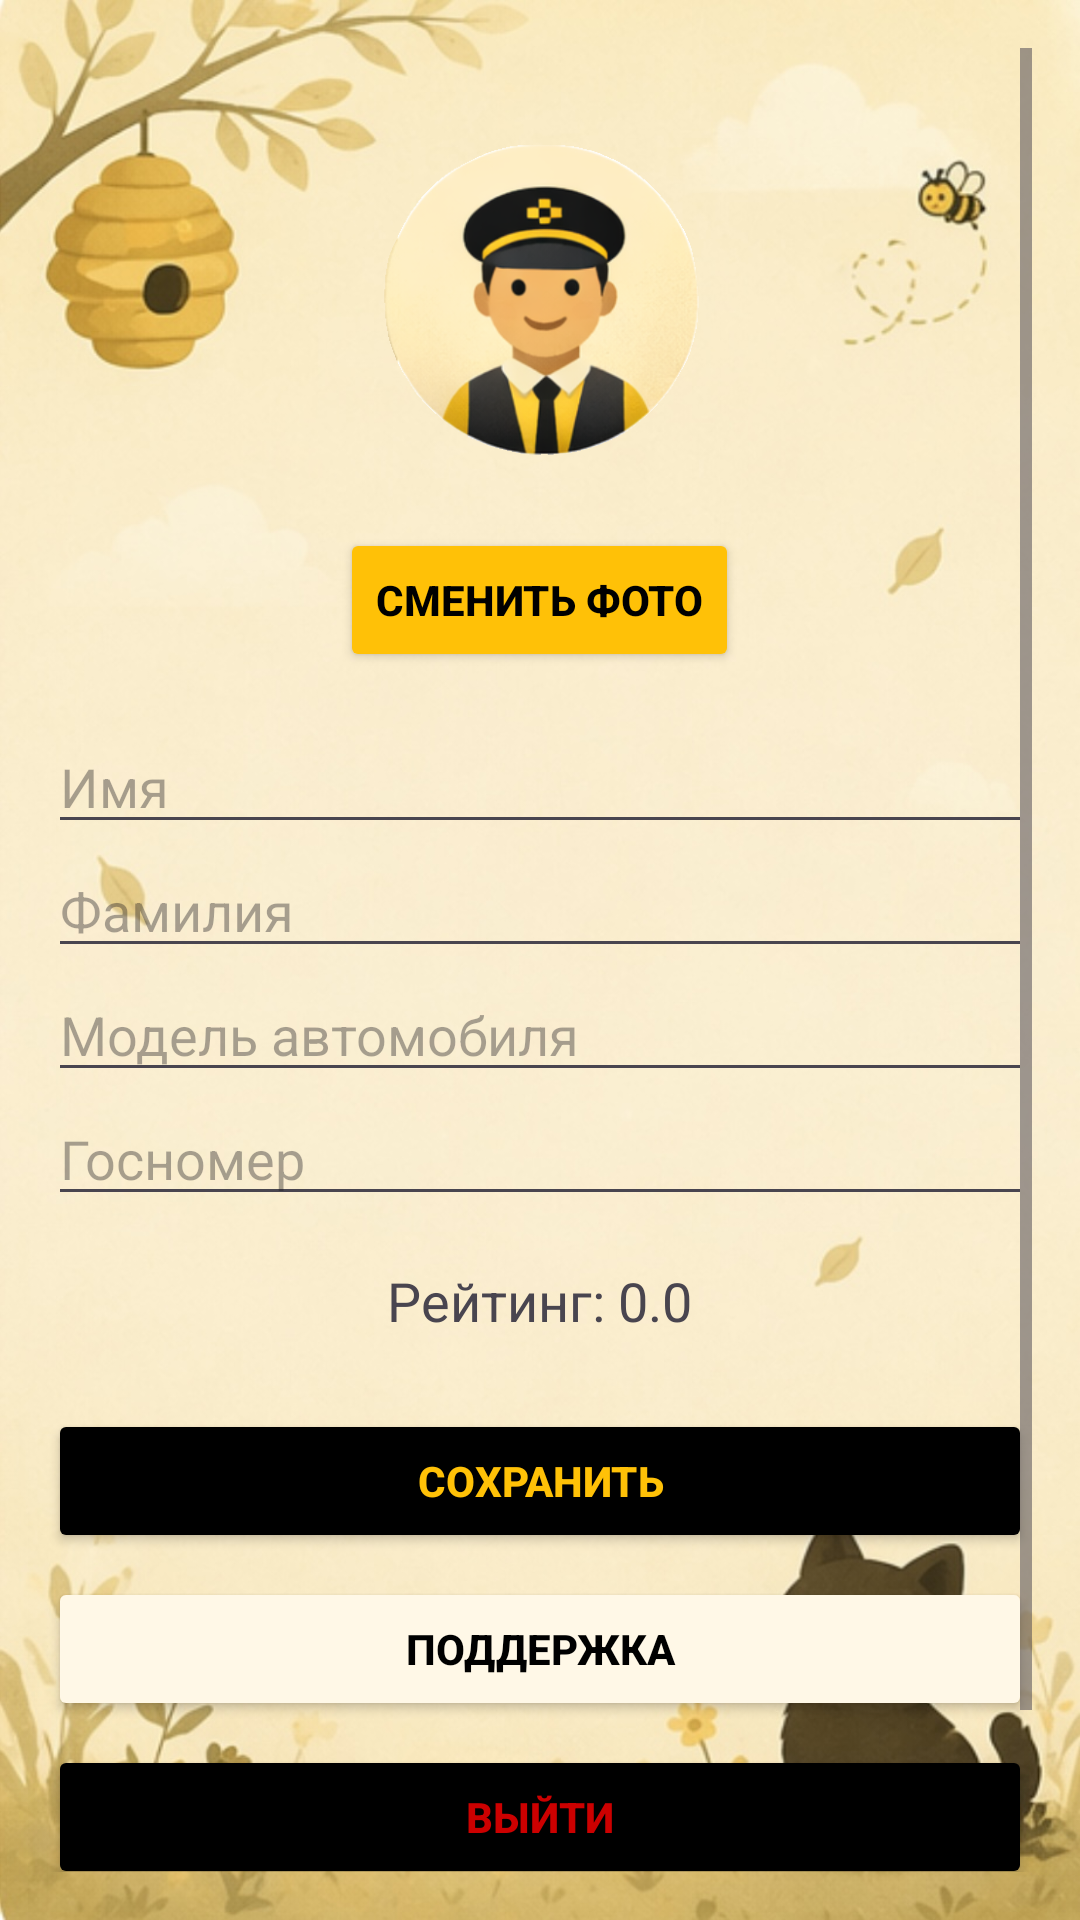

Where icons sit on this 1080x1920 app screen, as (x1, y1, x2, y2):
driver: (384, 145, 697, 455)
